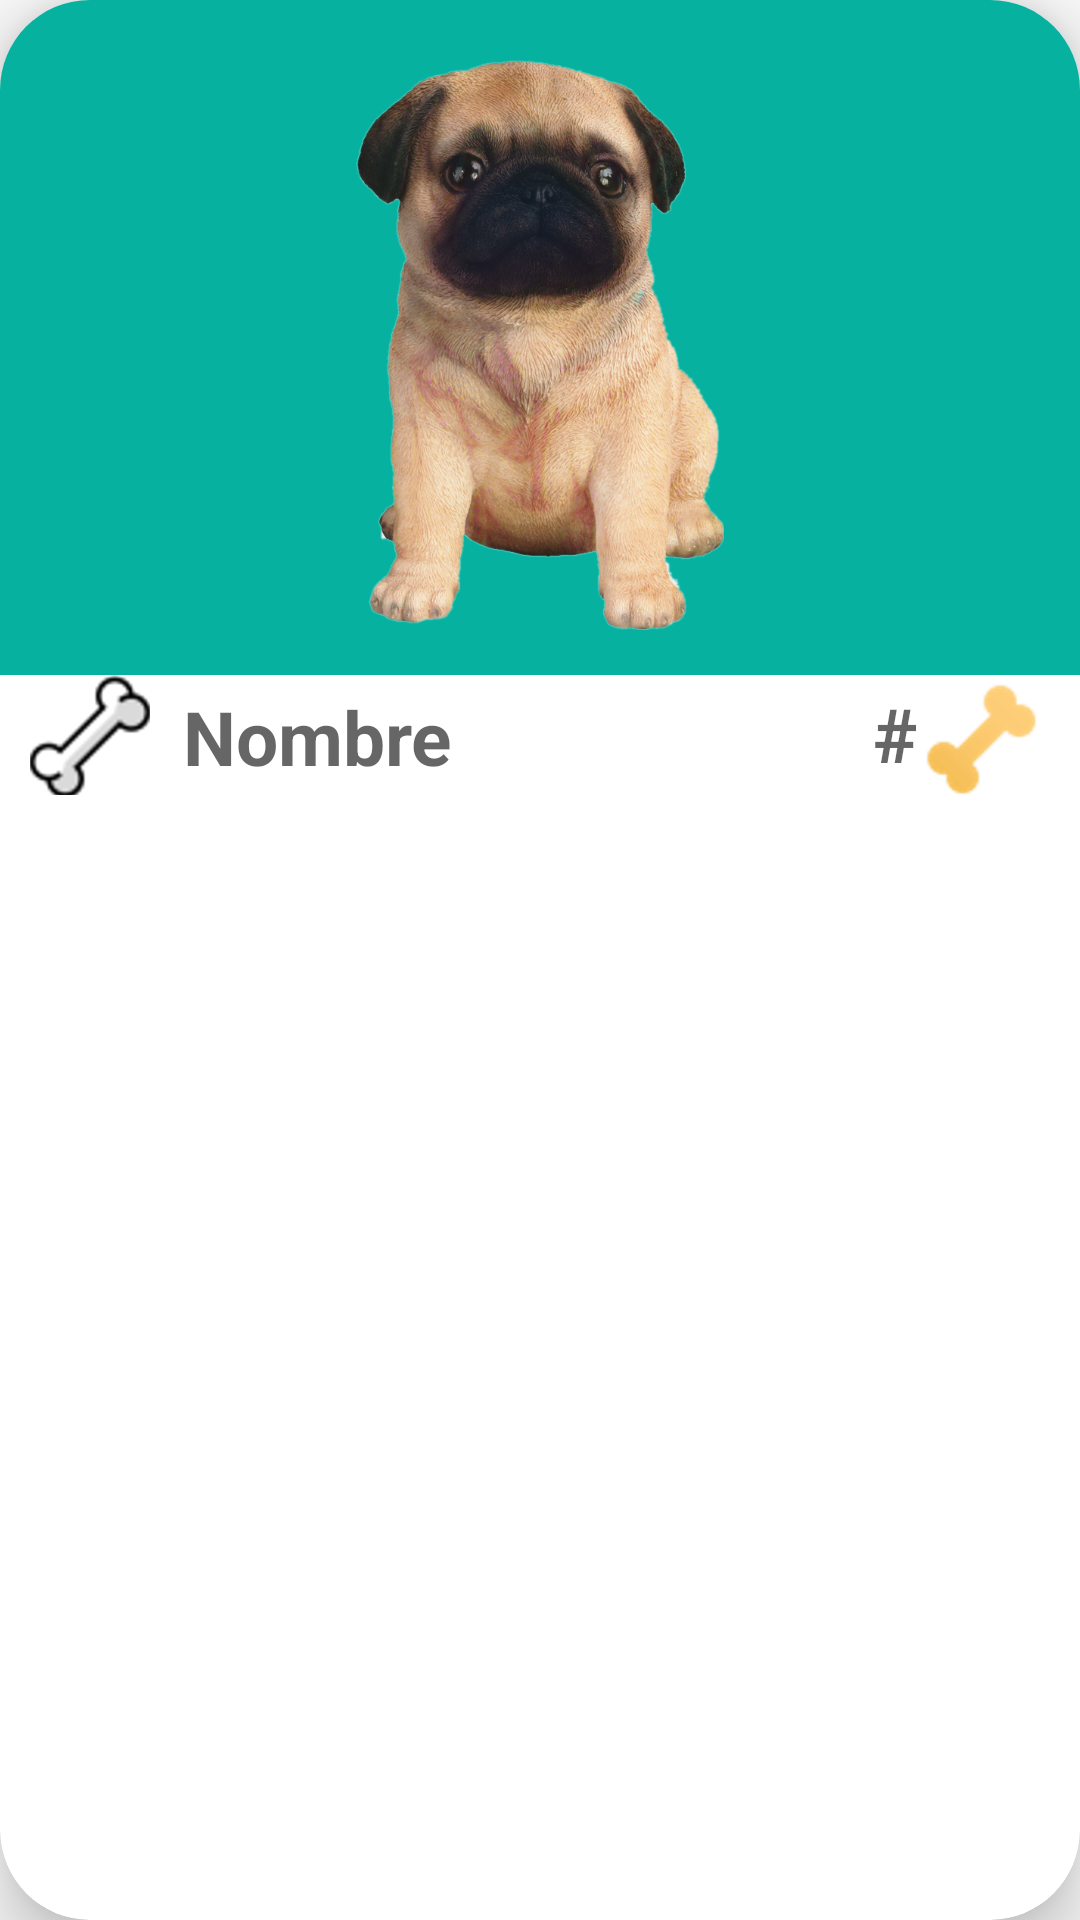

Where to tap for icons on this 1080 x 1920 app screen, as point (x, y):
hueso amarillo: point (981, 739)
hueso negro: point (90, 735)
